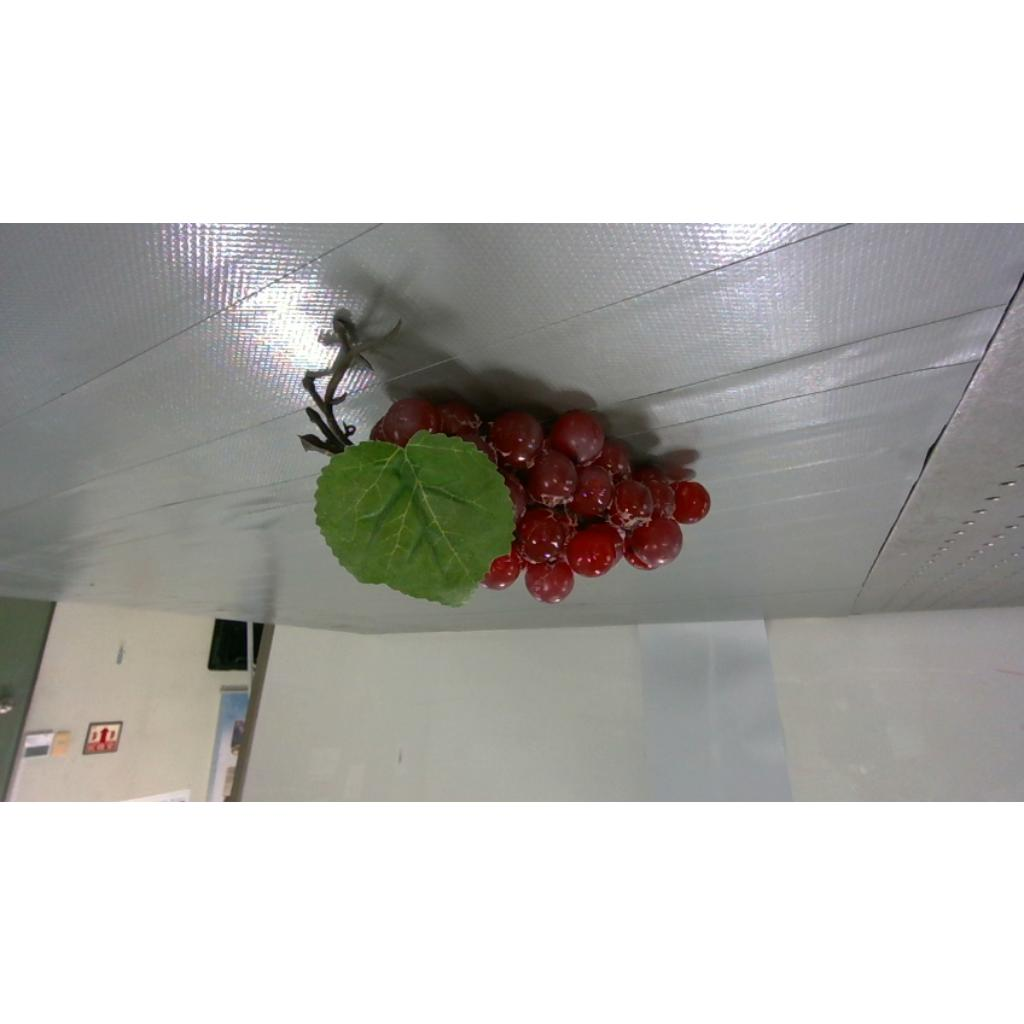grape: (302, 312, 710, 605)
